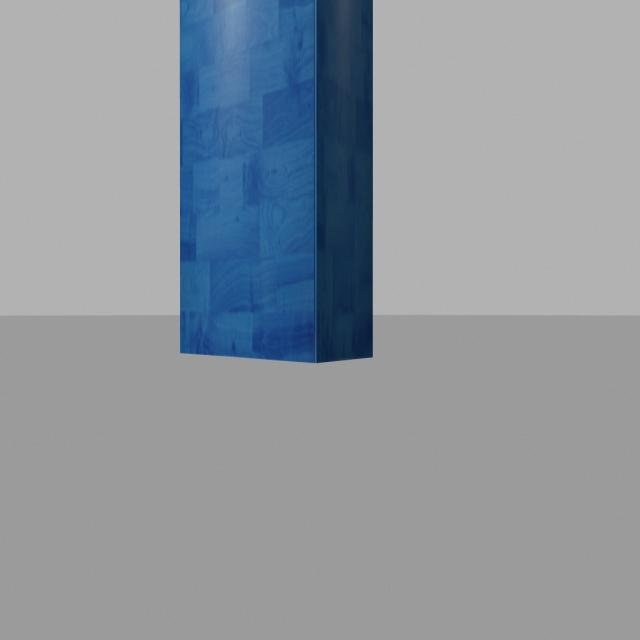shelf: (171, 0, 380, 374)
